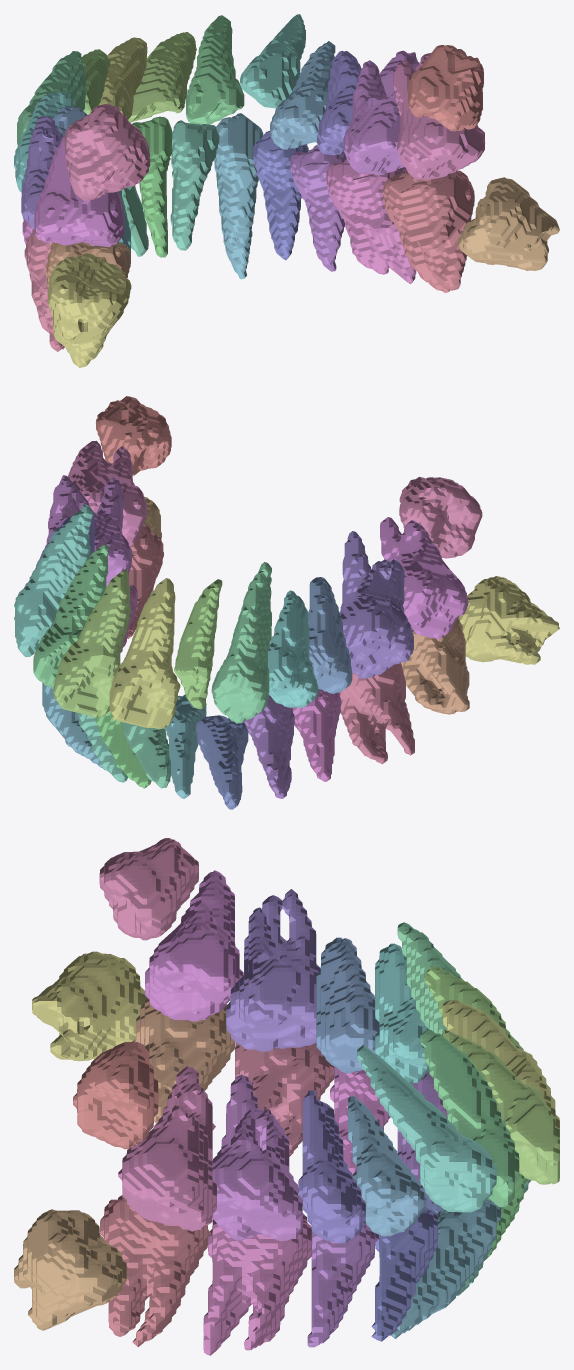
The model's file is STS24_Train_Labeled_0004.glb.
The picture shows the model from 3 angles, top to bottom: view 1: azimuth 30°, elevation 25°; view 2: azimuth 150°, elevation 25°; view 3: azimuth 270°, elevation 25°; orthographic projection. The views are drawn at different scales.
Parts seen in each view (by area): view 1: teeth__37, teeth__48, teeth__38, teeth__18, teeth__36, teeth__26, teeth__33, teeth__17, teeth__27, teeth__28, teeth__22, teeth__32 (+16 smaller); view 2: teeth__16, teeth__11, teeth__21, teeth__48, teeth__17, teeth__13, teeth__23, teeth__46, teeth__18, teeth__47, teeth__14, teeth__22 (+14 smaller); view 3: teeth__16, teeth__27, teeth__26, teeth__17, teeth__36, teeth__38, teeth__37, teeth__23, teeth__48, teeth__18, teeth__28, teeth__22 (+16 smaller).
Boxes of the visible parts, bbox=[...] form: teeth__37: bbox=[382, 170, 474, 292]; teeth__48: bbox=[47, 253, 131, 367]; teeth__38: bbox=[458, 177, 559, 270]; teeth__18: bbox=[64, 104, 150, 200]; teeth__36: bbox=[326, 158, 416, 283]; teeth__26: bbox=[343, 50, 418, 175]; teeth__33: bbox=[213, 113, 263, 279]; teeth__17: bbox=[34, 120, 124, 246]; teeth__27: bbox=[393, 53, 485, 179]; teeth__28: bbox=[408, 45, 483, 131]; teeth__22: bbox=[186, 15, 244, 124]; teeth__32: bbox=[170, 120, 219, 250]; teeth__16: bbox=[340, 531, 413, 678]; teeth__11: bbox=[109, 578, 180, 728]; teeth__21: bbox=[53, 569, 130, 717]; teeth__48: bbox=[458, 576, 559, 664]; teeth__17: bbox=[380, 517, 468, 639]; teeth__13: bbox=[211, 562, 271, 723]; teeth__23: bbox=[14, 504, 93, 657]; teeth__46: bbox=[339, 663, 414, 764]; teeth__18: bbox=[399, 476, 482, 558]; teeth__47: bbox=[401, 617, 469, 714]; teeth__14: bbox=[268, 590, 318, 707]; teeth__22: bbox=[33, 543, 108, 687]; teeth__16: bbox=[226, 889, 320, 1051]; teeth__27: bbox=[118, 1065, 216, 1231]; teeth__26: bbox=[212, 1074, 302, 1240]; teeth__17: bbox=[145, 870, 243, 1021]; teeth__36: bbox=[203, 1213, 311, 1355]; teeth__38: bbox=[14, 1209, 126, 1330]; teeth__37: bbox=[100, 1195, 211, 1346]; teeth__23: bbox=[357, 1044, 496, 1212]; teeth__48: bbox=[32, 951, 147, 1061]; teeth__18: bbox=[99, 838, 198, 940]; teeth__28: bbox=[73, 1040, 158, 1149]; teeth__22: bbox=[420, 1030, 519, 1207].
Bounding box in the file's own units: 74.86 × 43.93 × 60.5.
